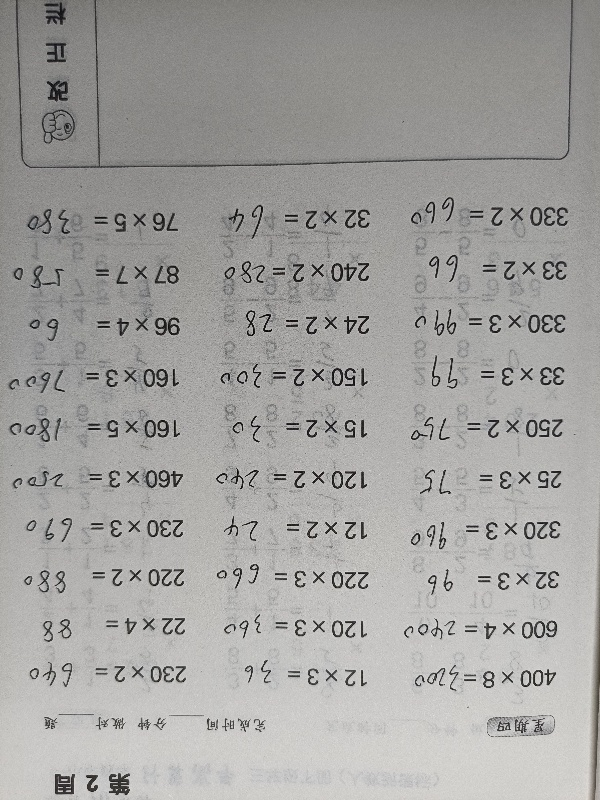equation: (7, 204, 187, 249), (9, 401, 189, 446), (197, 353, 377, 396), (395, 301, 575, 343), (385, 657, 565, 698), (8, 359, 188, 399), (210, 305, 381, 346), (3, 259, 185, 297), (218, 195, 374, 239), (20, 307, 188, 347), (196, 409, 376, 446), (387, 612, 567, 648), (397, 199, 577, 234), (395, 253, 575, 288), (394, 360, 574, 394), (392, 412, 572, 446), (12, 463, 192, 497), (195, 463, 375, 497), (390, 463, 570, 497), (390, 514, 570, 548), (198, 563, 378, 597), (388, 564, 568, 598), (197, 612, 377, 646), (12, 512, 192, 545), (197, 514, 377, 547), (13, 561, 193, 594), (196, 661, 376, 694), (14, 610, 194, 642), (15, 658, 195, 690), (213, 254, 372, 288)
